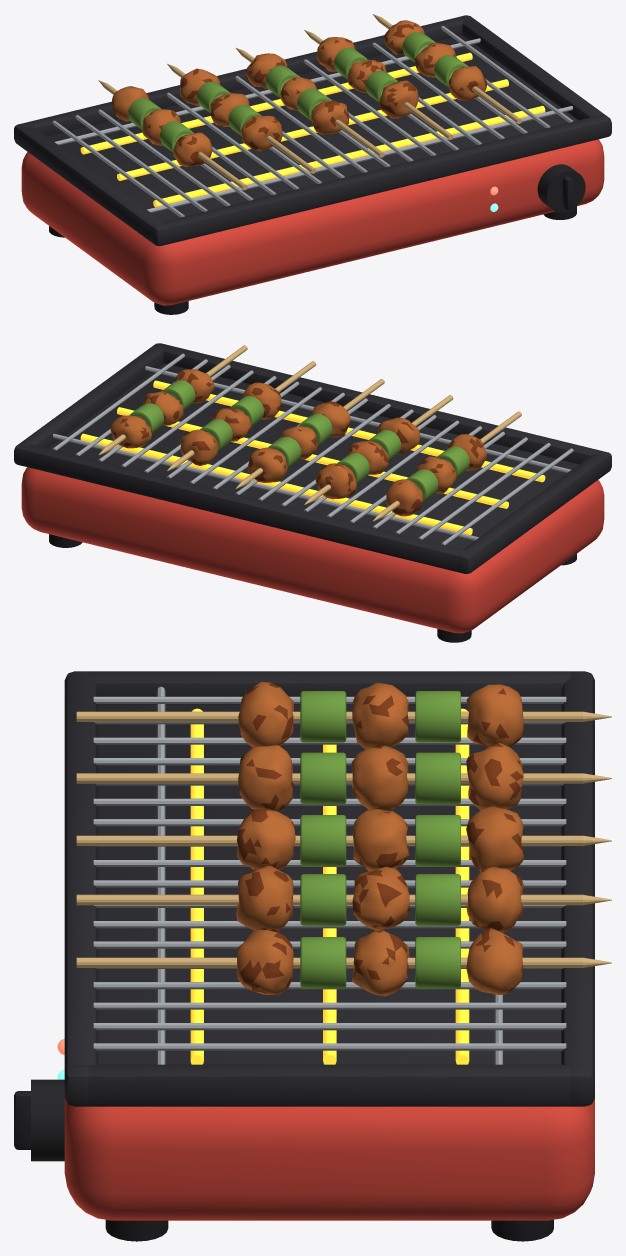
Rendered from Yakitori_Grill_Cooking.fbx.
3 views of the same model, one above another, from view 1: azimuth 30°, elevation 25°; view 2: azimuth 150°, elevation 25°; view 3: azimuth 270°, elevation 25° (orthographic). The views are drawn at different scales.
Visible parts, largest first — view 1: Yakitori_Grill_Cooking; view 2: Yakitori_Grill_Cooking; view 3: Yakitori_Grill_Cooking.
Boxes of the visible parts, x1,y1,x2,y2 form: Yakitori_Grill_Cooking: [14, 14, 611, 314]; Yakitori_Grill_Cooking: [14, 343, 611, 642]; Yakitori_Grill_Cooking: [14, 671, 611, 1241].
Size of the model in its own units: 0.4 by 0.1133 by 0.248.
